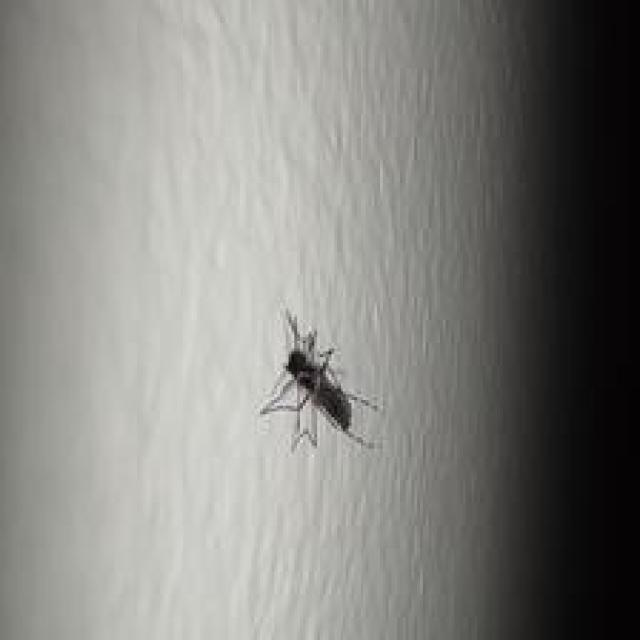Aedes albopictus: (257, 307, 380, 453)
